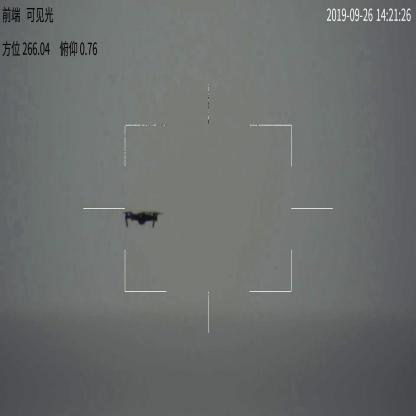uav: (122, 208, 165, 233)
